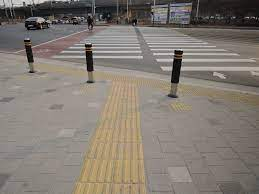guide_blocks: (77, 141, 147, 194), (91, 90, 140, 141), (179, 89, 259, 106), (97, 76, 169, 89), (31, 64, 87, 77)
